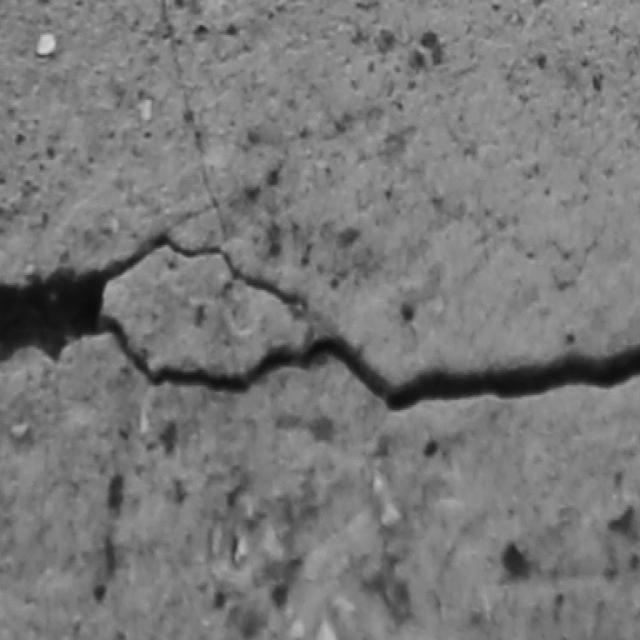SurfaceCrack: (1, 202, 640, 437)
